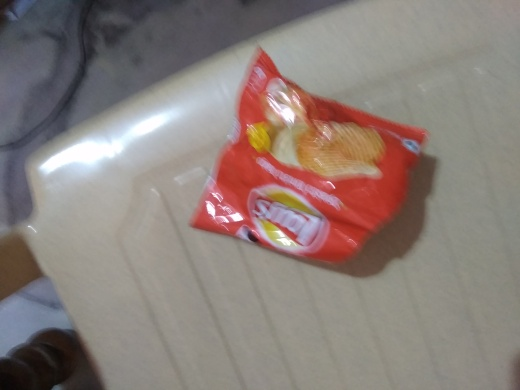lays: (215, 46, 431, 270)
